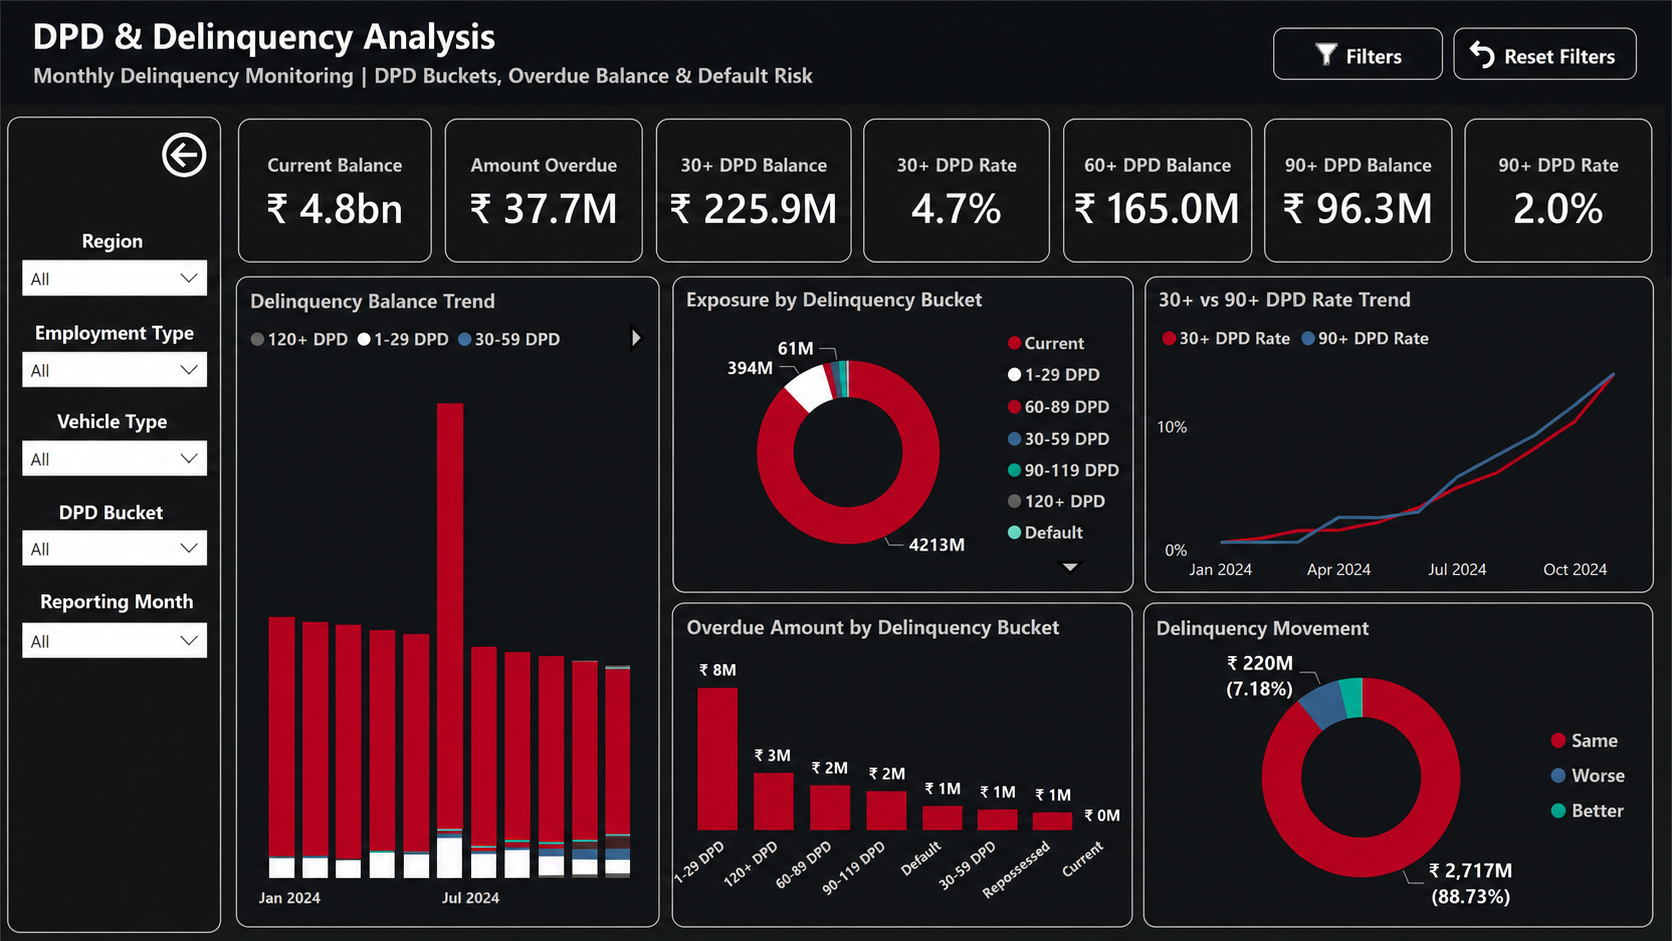

The dashboard page shown, as its layout file describes it:
{"tool":"powerbi","page":{"name":"DPD & Delinquency Analysis","canvas":[1280,720],"ordinal":2},"visuals":[{"type":"group","id":"g1","title":"default page ","box":[0,0,1280,86.5],"z":0},{"type":"textbox","title":"Executive Overview","box":[0,0,1280,86.5],"z":0,"group":"g1"},{"type":"cardVisual","fields":{"Data":["Sum(DPD_History.CurrentBalance)","Sum(DPD_History.AmountOverdue)","DPD_History.30+ DPD Balance","DPD_History.30+ DPD Rate","DPD_History.60+ DPD Balance","DPD_History.90+ DPD Balance","DPD_History.90+ DPD Rate"]},"box":[44.3,76.7,1235.7,155.7],"z":0,"group":"g3"},{"type":"shape","box":[0,94.1,44.3,625],"z":0,"group":"g2"},{"type":"shape","box":[350.8,142.2,576.7,429.8],"z":0,"group":"g4"},{"type":"actionButton","box":[1097.5,23.1,124.4,39],"z":1000,"group":"g1"},{"type":"textbox","box":[350,172.9,577.3,398.9],"z":1000,"group":"g4"},{"type":"actionButton","box":[0,181.3,44.5,77.6],"z":1000,"group":"g2"},{"type":"lineChart","title":"30+ vs 90+ DPD Rate Trend","fields":{"Category":["DPD_History.SnapshotDate"],"Y":["DPD_History.30+ DPD Rate"],"Y2":["DPD_History.90+ DPD Rate"]},"box":[838,223.9,424.4,231.4],"z":1000,"group":"g3"},{"type":"actionButton","box":[965.9,23.1,124.4,39],"z":2000,"group":"g1"},{"type":"shape","box":[350,120,579.1,52.1],"z":2000,"group":"g4"},{"type":"donutChart","title":"Exposure by Delinquency Bucket","fields":{"Y":["DPD_History.DPD Current Balance"],"Category":["DPD_History.DPD_Bucket"]},"box":[443.6,223.9,385.8,232.8],"z":2000,"group":"g3"},{"type":"actionButton","box":[0,257.9,44.8,76.9],"z":2000,"group":"g2"},{"type":"actionButton","box":[887.2,120,42.8,53.8],"z":3000,"group":"g4"},{"type":"columnChart","title":"Delinquency Balance Trend","fields":{"Category":["DPD_History.SnapshotDate"],"Series":["DPD_History.DPD_Bucket"],"Y":["DPD_History.DPD Current Balance"]},"box":[63.6,223.9,372.9,485.6],"z":3000,"group":"g3"},{"type":"actionButton","box":[0,334.9,44.8,78.3],"z":3000,"group":"g2"},{"type":"group","id":"g2","title":"navigation bar","box":[0,94.1,44.8,625],"z":4000},{"type":"textbox","box":[398.6,120,406.2,49.7],"z":4000,"group":"g4"},{"type":"clusteredColumnChart","title":"Overdue Amount by Delinquency Bucket","fields":{"Category":["DPD_History.DPD_Bucket"],"Y":["Sum(DPD_History.AmountOverdue)"]},"box":[442.9,465.2,385.8,242.8],"z":4000,"group":"g3"},{"type":"group","id":"g3","title":"charts unfolded 1","box":[44.3,76.7,1235.7,632.9],"z":5000},{"type":"actionButton","box":[377.2,125.9,27.2,32],"z":5000,"group":"g4"},{"type":"donutChart","title":"Delinquency Movement","fields":{"Category":["DPD_History.RollFlag"],"Y":["Sum(DPD_History.CurrentBalance)"]},"box":[838.5,465.9,424.4,242.8],"z":5000,"group":"g3"},{"type":"group","id":"g4","title":"info","box":[350,120,580,452],"z":7000}]}

Visuals, with their boxes in screenshot pixels (x1, y1, x2, y2), scaled from the page's 1280x720 canvas onto the 1672x941 screenshot:
"default page " group: <box>0,0,1671,113</box>
"Executive Overview" textbox: <box>0,0,1671,113</box>
cardVisual - Sum(DPD_History.CurrentBalance) x Sum(DPD_History.AmountOverdue): <box>58,100,1671,304</box>
shape: <box>0,123,58,940</box>
shape: <box>458,186,1212,748</box>
actionButton: <box>1434,30,1596,81</box>
textbox: <box>457,226,1211,747</box>
actionButton: <box>0,237,58,338</box>
"30+ vs 90+ DPD Rate Trend" lineChart: <box>1095,293,1649,595</box>
actionButton: <box>1262,30,1424,81</box>
shape: <box>457,157,1214,225</box>
"Exposure by Delinquency Bucket" donutChart: <box>579,293,1083,597</box>
actionButton: <box>0,337,59,438</box>
actionButton: <box>1159,157,1215,227</box>
"Delinquency Balance Trend" columnChart: <box>83,293,570,927</box>
actionButton: <box>0,438,59,540</box>
"navigation bar" group: <box>0,123,59,940</box>
textbox: <box>521,157,1051,222</box>
"Overdue Amount by Delinquency Bucket" clusteredColumnChart: <box>579,608,1082,925</box>
"charts unfolded 1" group: <box>58,100,1671,927</box>
actionButton: <box>493,165,528,206</box>
"Delinquency Movement" donutChart: <box>1095,609,1650,926</box>
"info" group: <box>457,157,1215,748</box>
